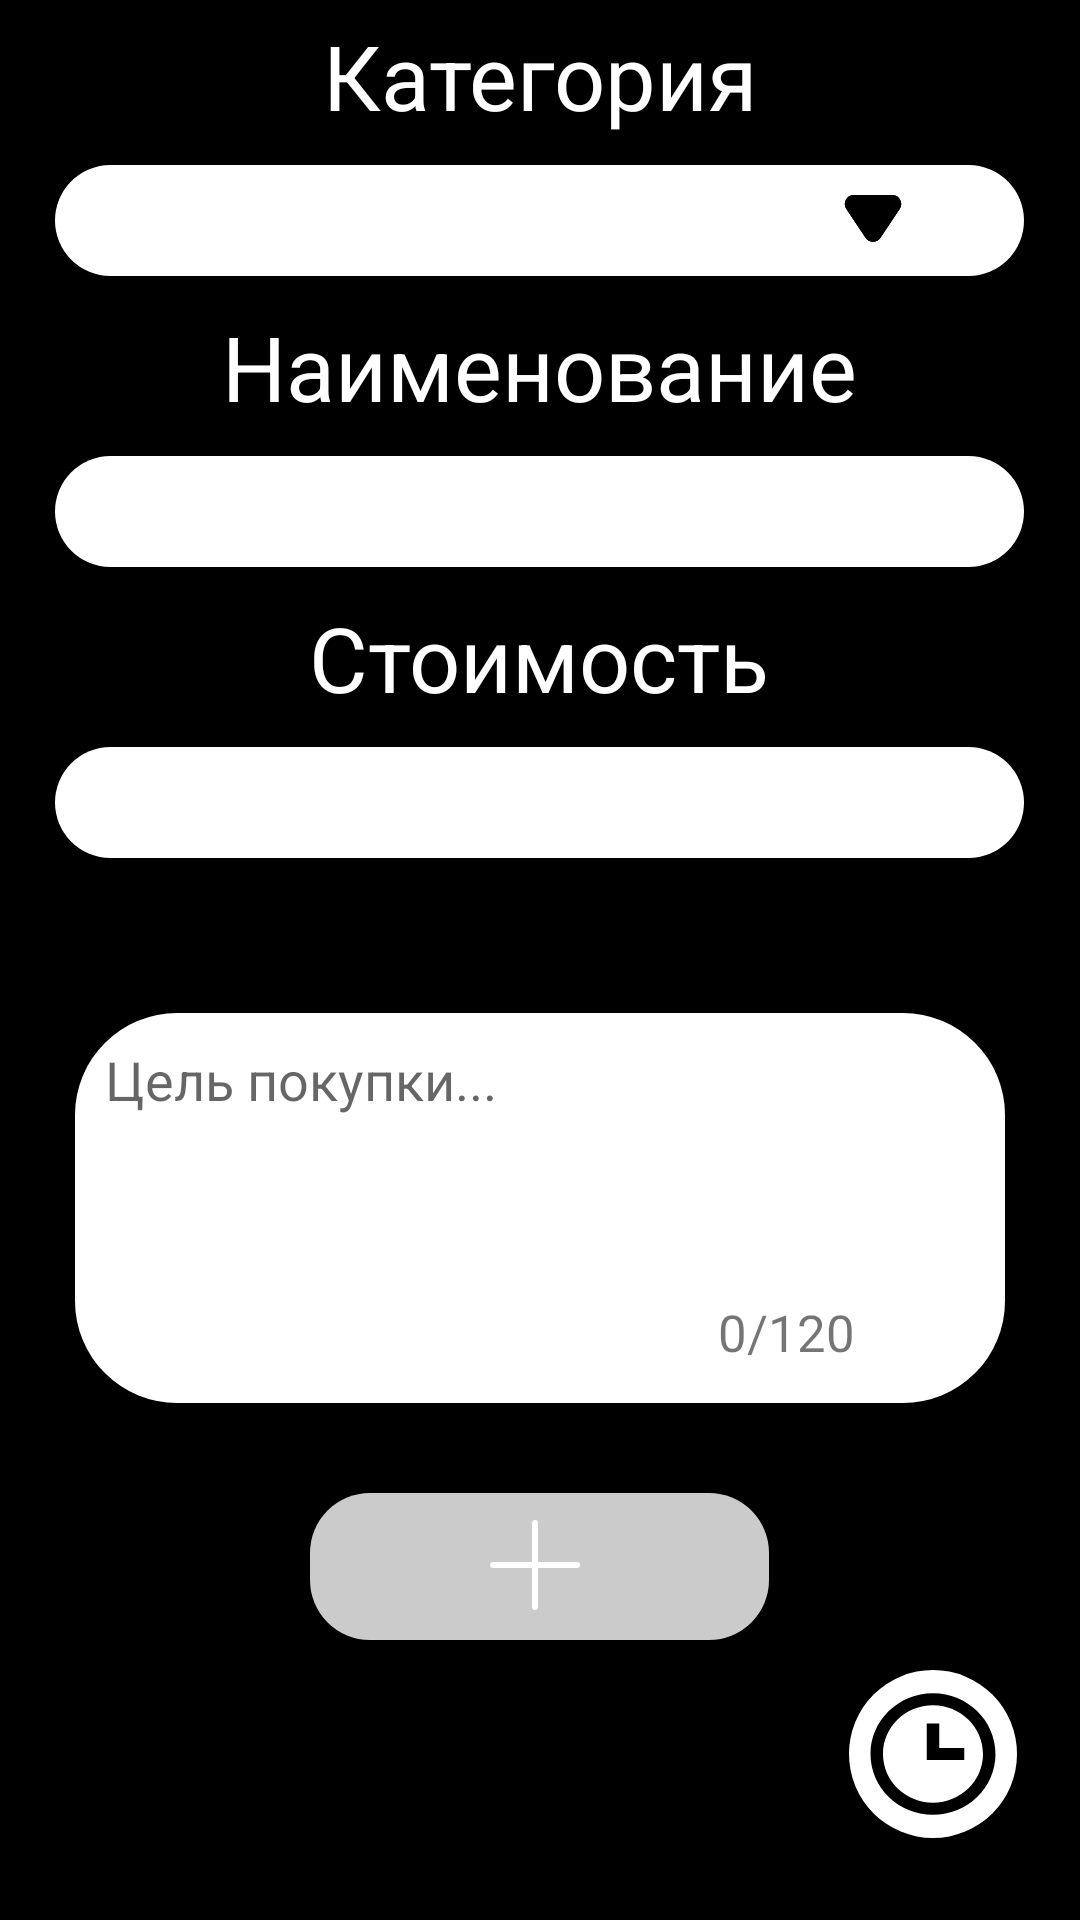

Locate icon controls on the screen. Image size 1080x1920, boxes as box=[x1, y1, x2, y2].
clock: box=[849, 1670, 1017, 1838]
selectorforspinner: box=[844, 195, 902, 242]
